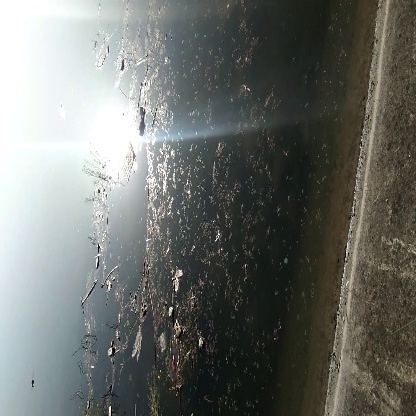branch: (73, 276, 103, 313)
